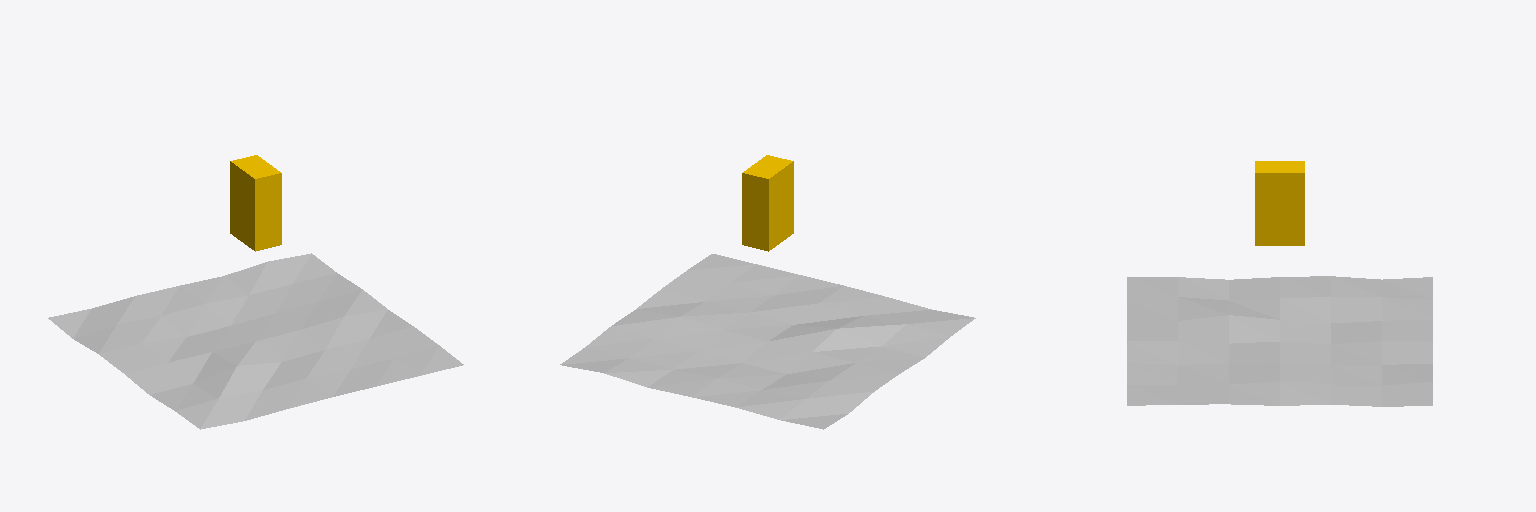
File: fugal_life_flow.obj
The picture shows the model from 3 angles: view 1: azimuth 30°, elevation 25°; view 2: azimuth 150°, elevation 25°; view 3: azimuth 270°, elevation 25°; orthographic projection.
Visible parts, largest first — view 1: FluidFlow, Diamond; view 2: FluidFlow, Diamond; view 3: FluidFlow, Diamond.
Boxes of the visible parts, <box> form: FluidFlow: <box>48,253,463,429</box>; Diamond: <box>230,155,281,251</box>; FluidFlow: <box>560,254,975,429</box>; Diamond: <box>742,155,793,251</box>; FluidFlow: <box>1127,276,1432,406</box>; Diamond: <box>1255,161,1304,245</box>.
Bounding box in the file's own units: 10 × 6.43 × 10.